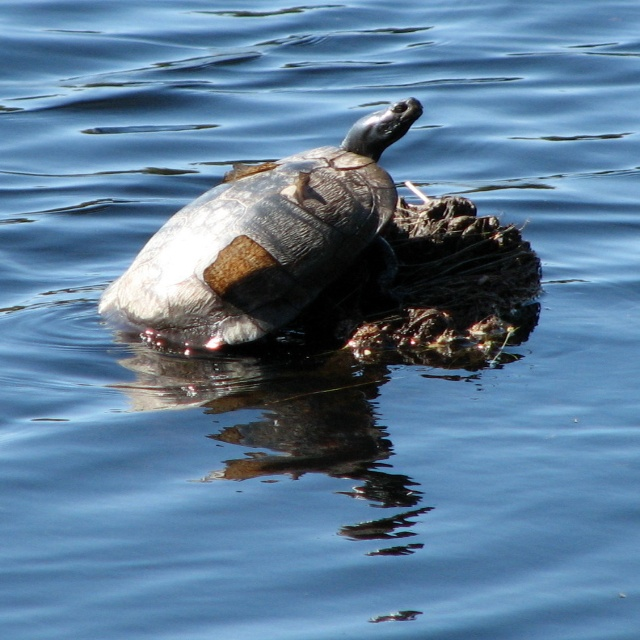Sea turtle: (94, 94, 425, 360)
